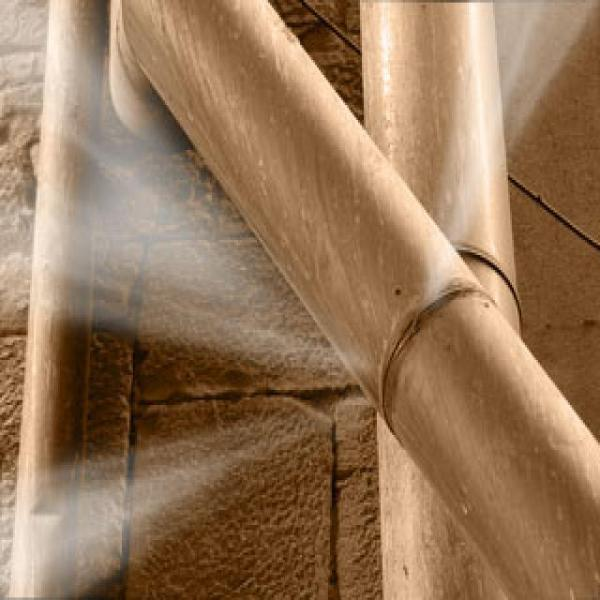gas: (322, 190, 502, 471)
